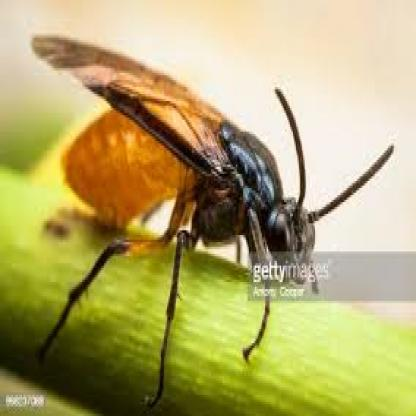sawfly: (30, 29, 401, 409)
